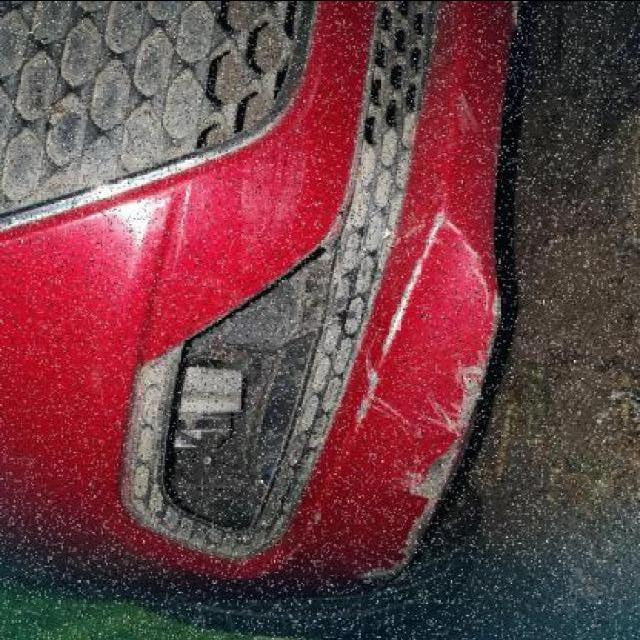front-bumper-dent: (93, 95, 513, 639)
